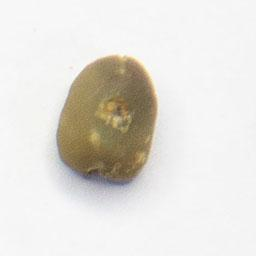peaberry: (52, 50, 161, 187)
